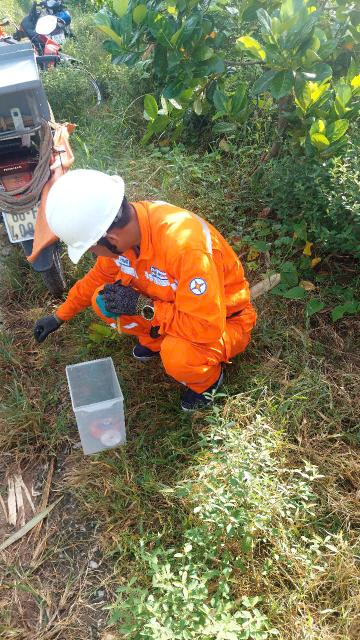gloves: (94, 273, 147, 318), (29, 317, 69, 344)
helmet: (30, 155, 138, 269)
shoes: (174, 369, 229, 409), (127, 343, 161, 364)
